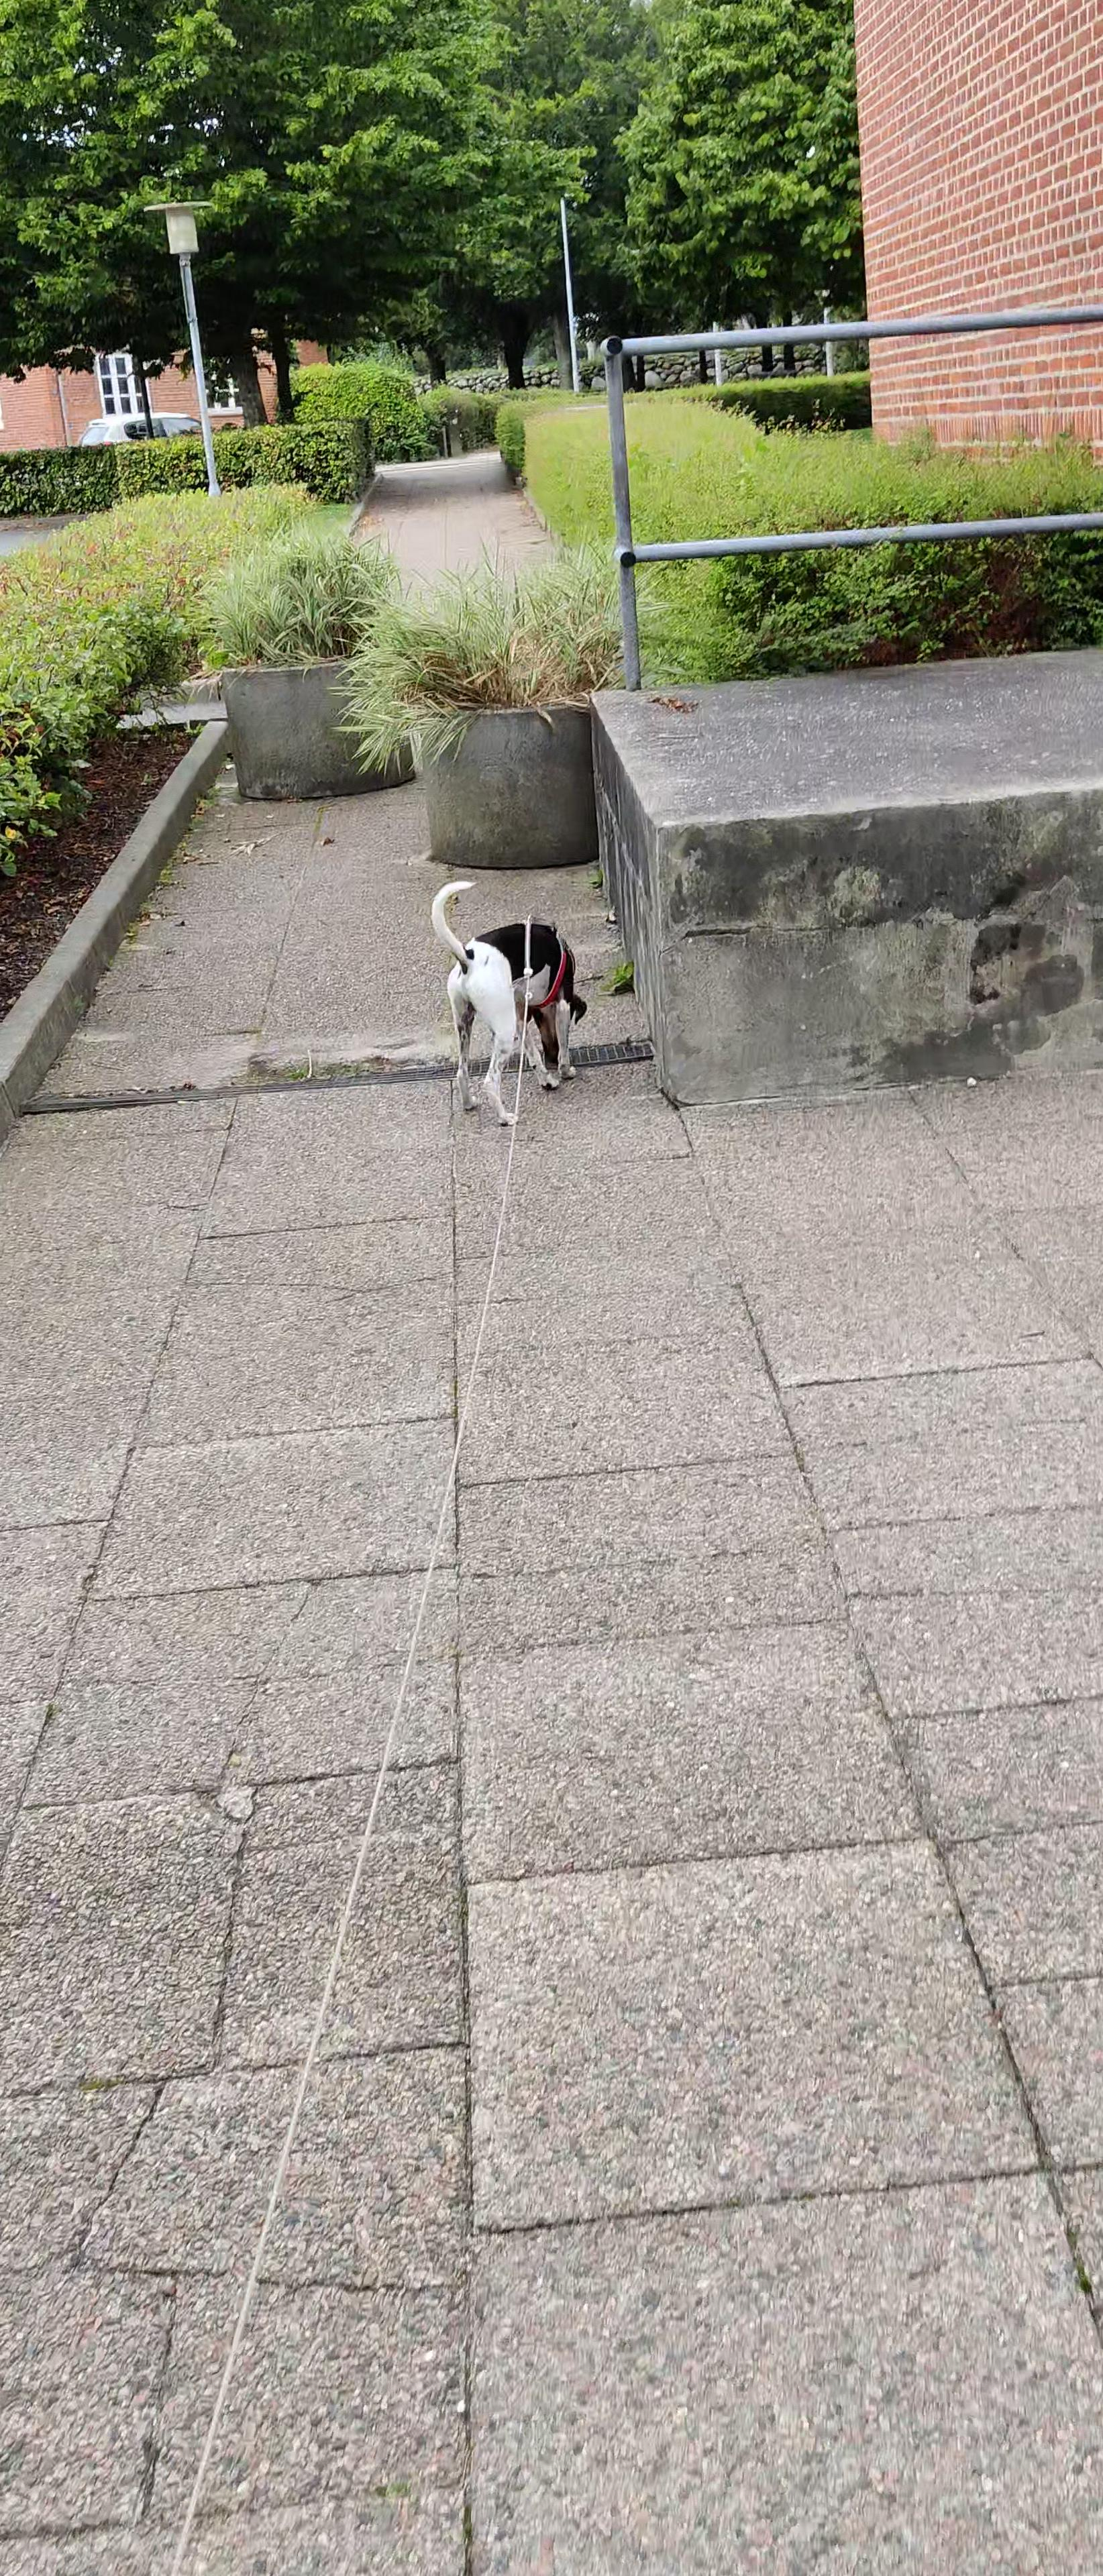Dog: (427, 879, 592, 1130)
